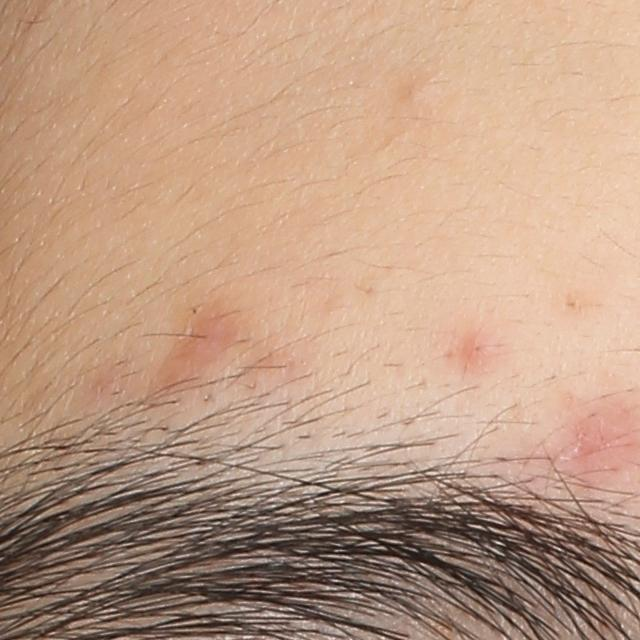comedo: (400, 79, 430, 107)
papule: (465, 335, 493, 363)
